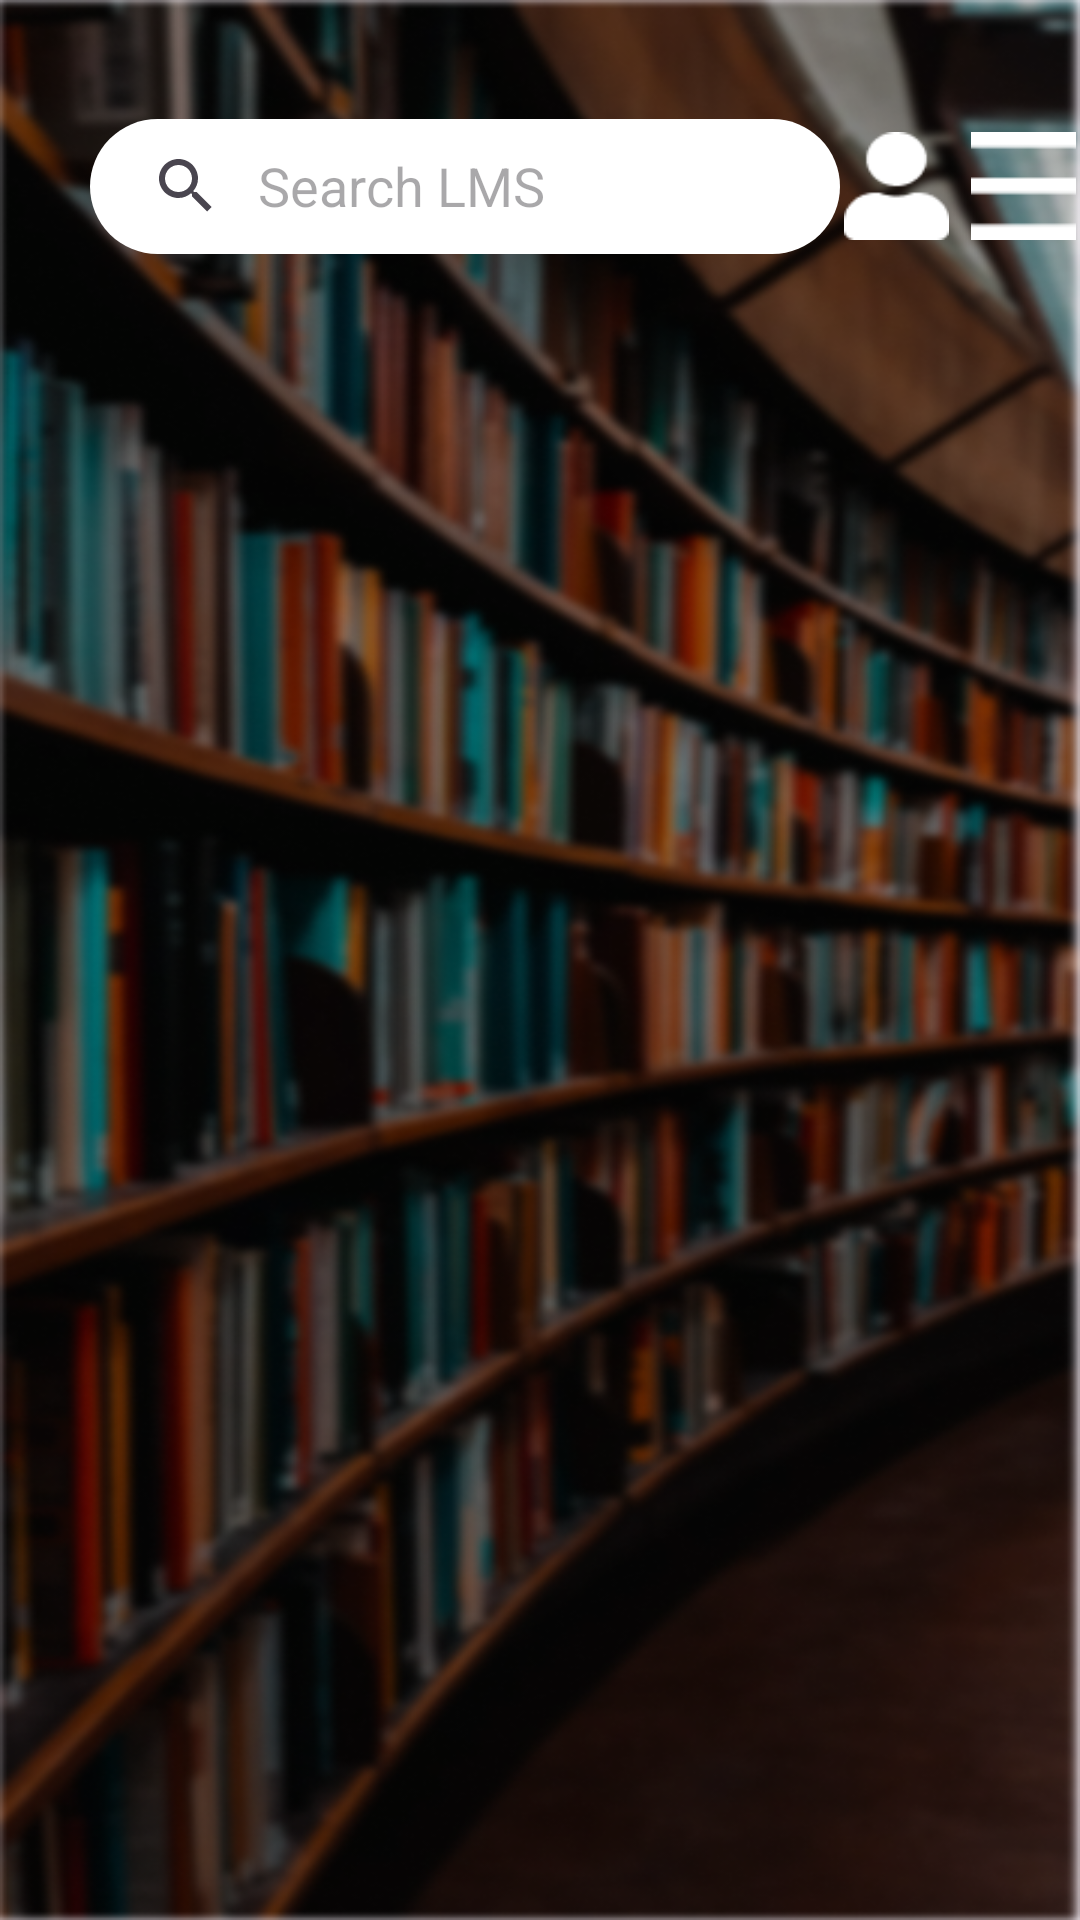

Where to tap for icons on this 1080px×1920px app screen, as (x,y):
burger: (1023,186)
user: (896,186)
